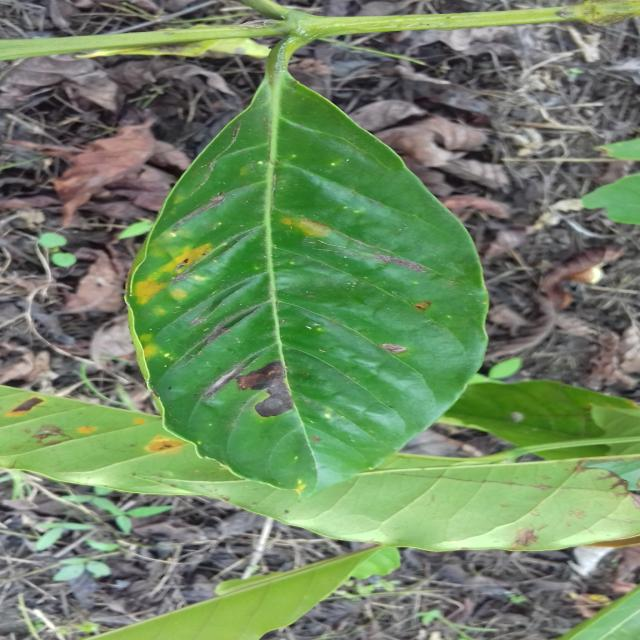Enfermedad-Roya: (127, 55, 488, 491)
